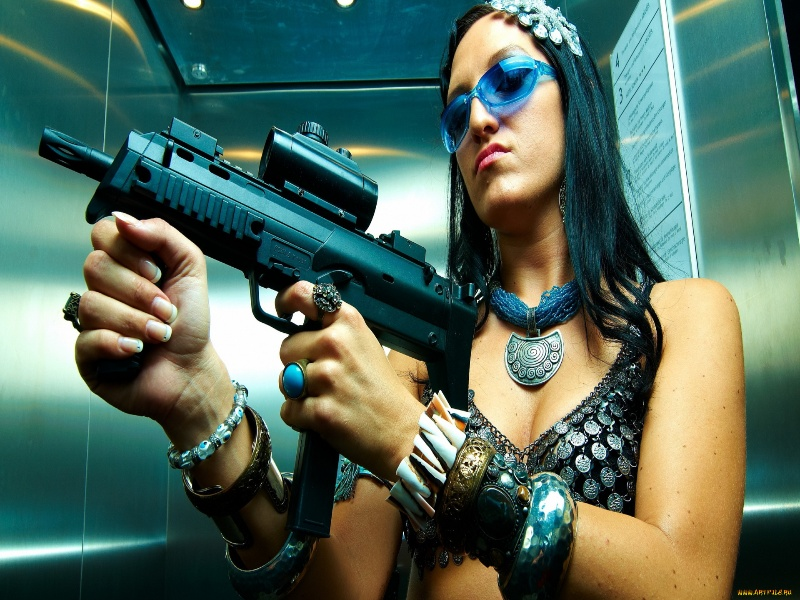person: (74, 1, 747, 600)
weapon: (38, 122, 478, 539)
